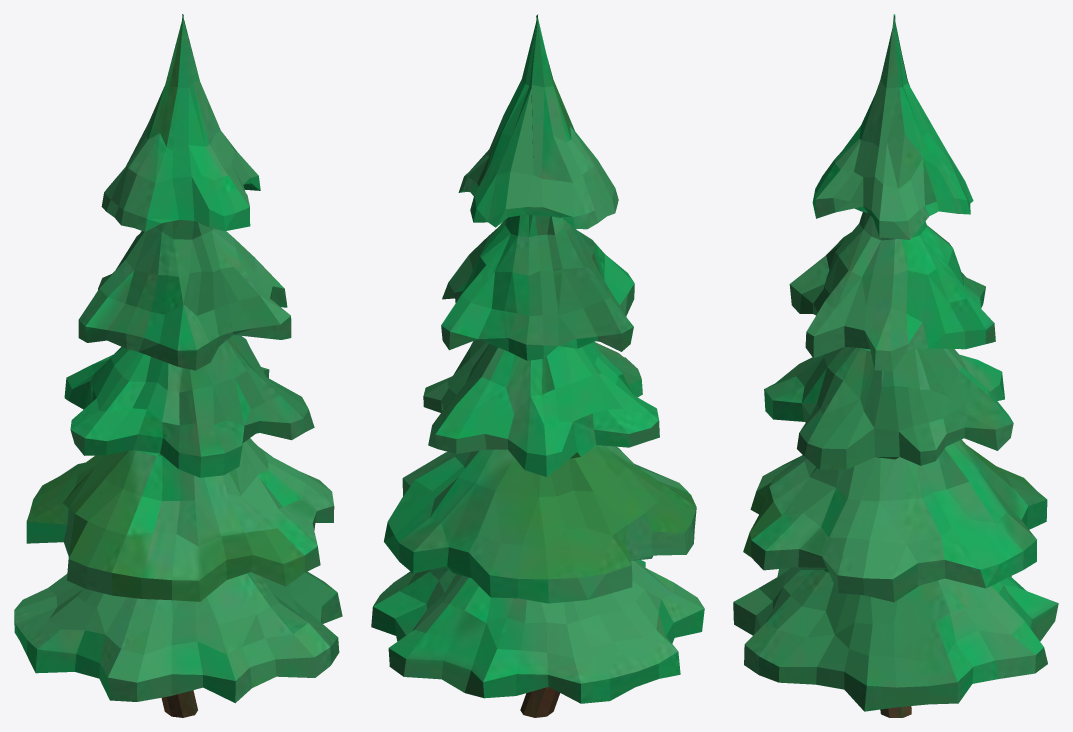
The model's file is tree8.glb.
The picture shows the model from 3 angles, left to right: view 1: azimuth 30°, elevation 25°; view 2: azimuth 150°, elevation 25°; view 3: azimuth 270°, elevation 25°; orthographic projection.
Parts seen in each view (by area): view 1: car; view 2: car; view 3: car.
Part boxes in pixels (left/top/right/bottom): car: left=14, top=14, right=342, bottom=717; car: left=371, top=14, right=704, bottom=717; car: left=733, top=14, right=1058, bottom=717.
Size of the model in its own units: 0.9411 by 2.16 by 0.9146.
Materials: 1 (1 with a texture image).
